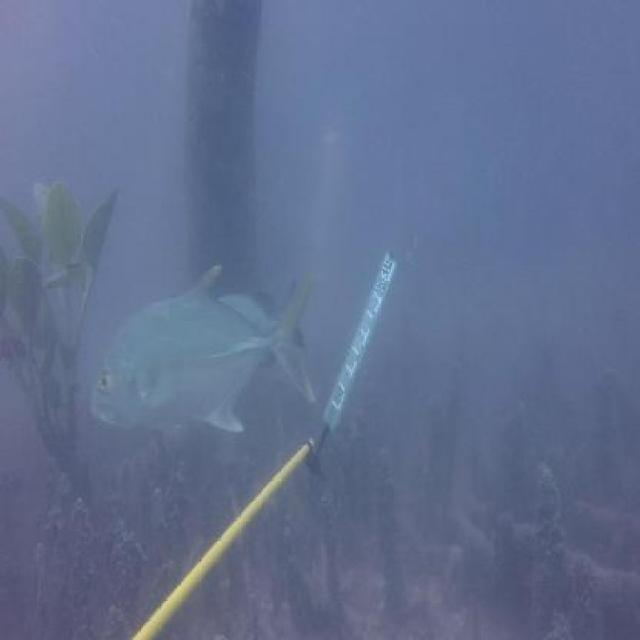Caranx: (92, 257, 318, 438)
acanthopagrus_palmaris: (221, 280, 308, 351)
